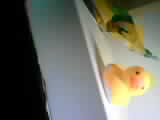duck: (97, 51, 148, 114)
